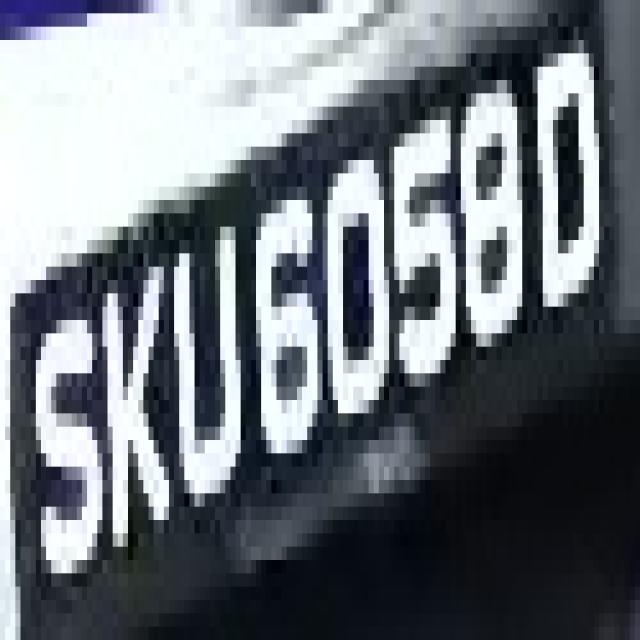0: (322, 106, 400, 426)
5: (379, 94, 466, 414)
6: (251, 107, 317, 520)
8: (450, 14, 532, 414)
D: (528, 40, 620, 360)
K: (92, 227, 174, 560)
S: (26, 267, 102, 560)
U: (158, 186, 245, 546)
